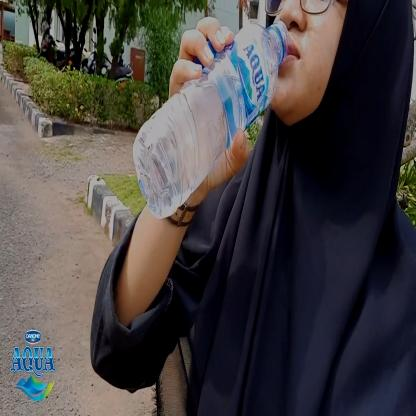plastic_bottles: (132, 17, 292, 218)
